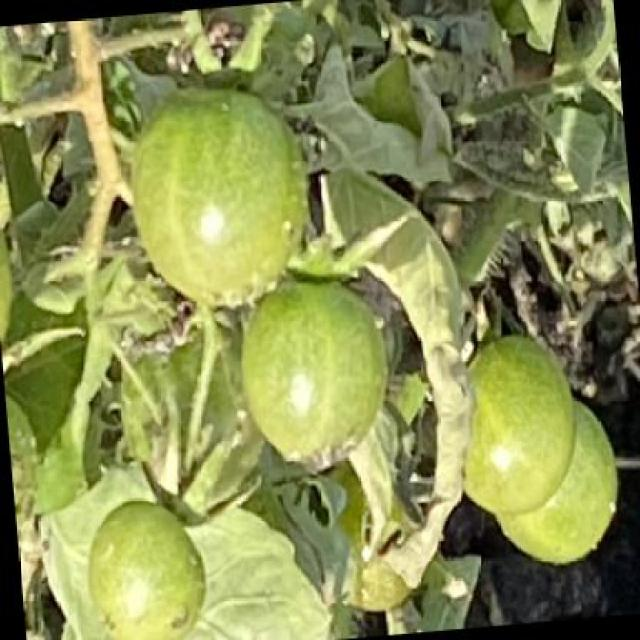unripe tomato: (124, 75, 319, 308), (232, 272, 398, 476), (489, 396, 628, 570), (454, 332, 581, 517), (81, 491, 214, 638)
